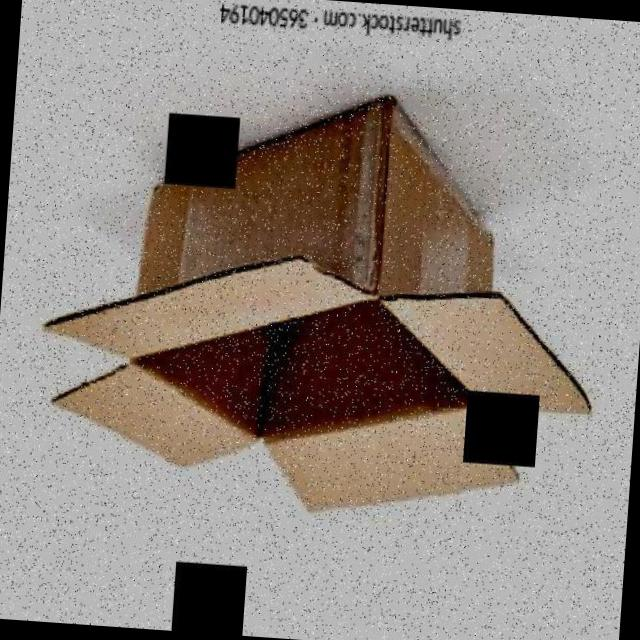box: (28, 61, 618, 542)
